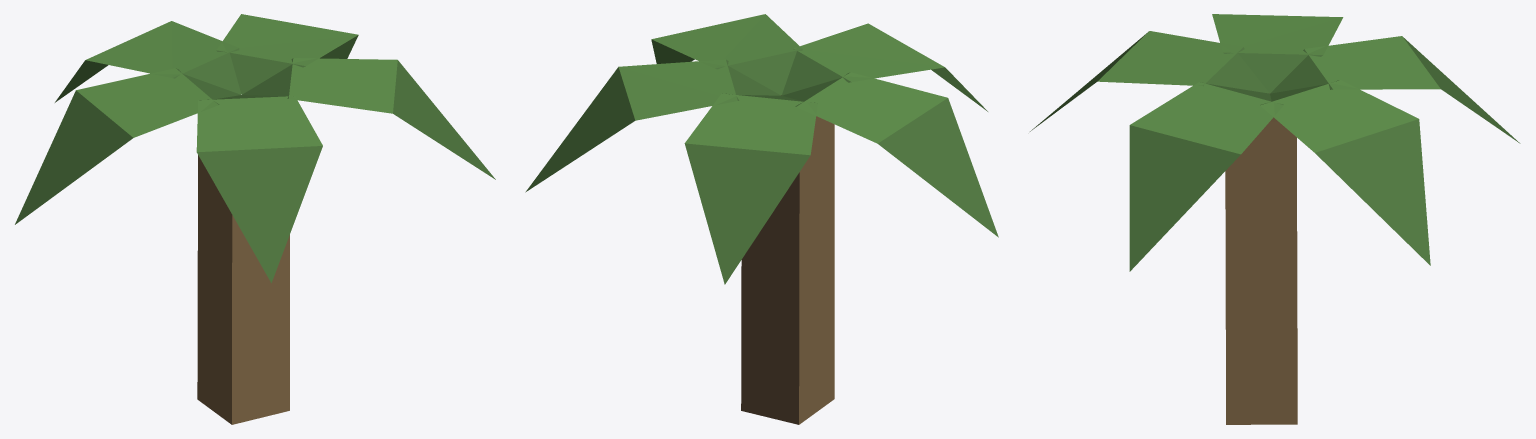
Rendered from tree_09.FBX.
The picture shows the model from 3 angles, left to right: view 1: azimuth 30°, elevation 25°; view 2: azimuth 150°, elevation 25°; view 3: azimuth 270°, elevation 25°; orthographic projection. The views are drawn at different scales.
Visible parts, largest first — view 1: Object174; view 2: Object174; view 3: Object174.
Boxes of the visible parts, bbox=[...] form: Object174: bbox=[15, 14, 495, 424]; Object174: bbox=[525, 14, 998, 424]; Object174: bbox=[1030, 14, 1520, 424].
Bounding box in the file's own units: 1149 × 874 × 1166.
